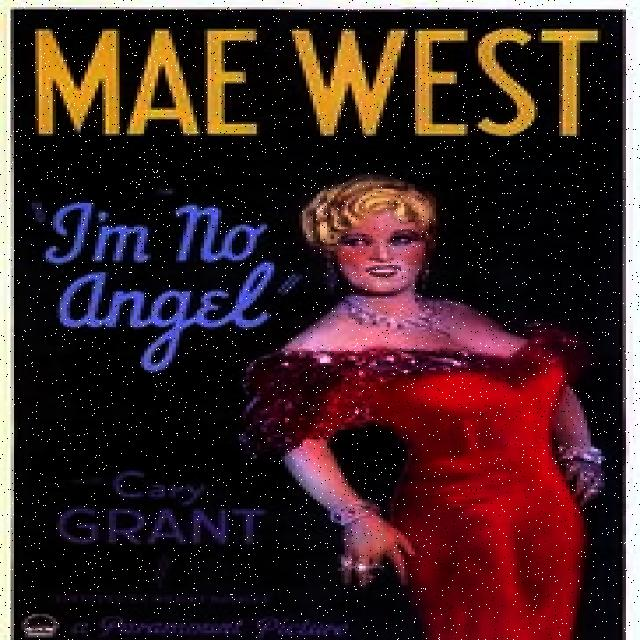movie-judul: (22, 18, 609, 154), (41, 186, 312, 369), (42, 466, 291, 564)
picture: (32, 154, 615, 640)
